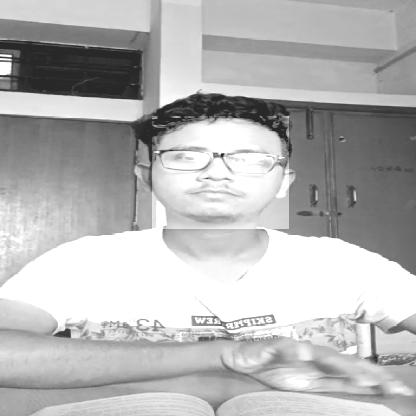Normal: (152, 116, 289, 229)
